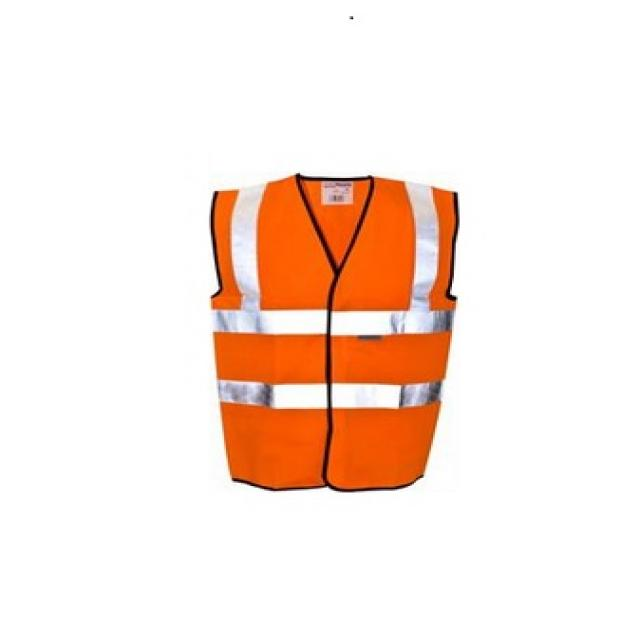Reflective-Jacket: (186, 168, 475, 492)
